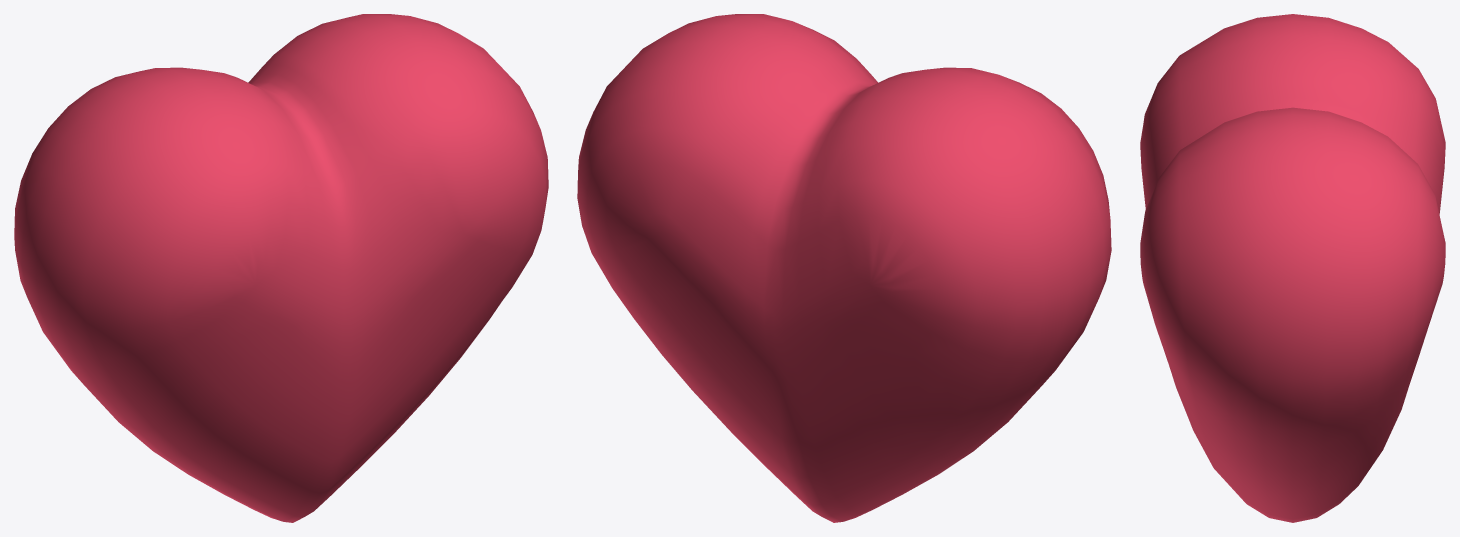
Rendered from Heart.fbx.
3 views of the same model, side by side, from view 1: azimuth 30°, elevation 25°; view 2: azimuth 150°, elevation 25°; view 3: azimuth 270°, elevation 25° (orthographic). The views are drawn at different scales.
Visible parts, largest first — view 1: Heart; view 2: Heart; view 3: Heart.
Boxes of the visible parts, bbox=[...] form: Heart: bbox=[14, 14, 548, 522]; Heart: bbox=[577, 14, 1111, 522]; Heart: bbox=[1140, 14, 1445, 522].
Size of the model in its own units: 1.95 by 1.76 by 1.09.
